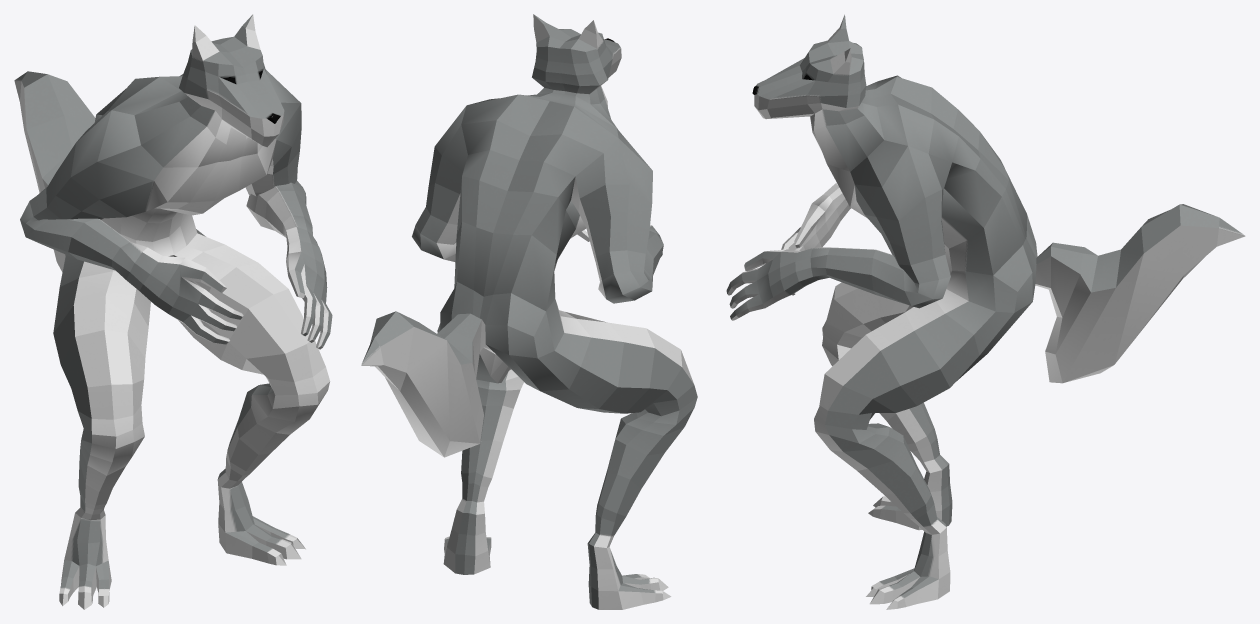
The model's file is WolfIdle_(116).obj.
The picture shows the model from 3 angles, left to right: view 1: azimuth 30°, elevation 25°; view 2: azimuth 150°, elevation 25°; view 3: azimuth 270°, elevation 25°; orthographic projection. The views are drawn at different scales.
Parts seen in each view (by area): view 1: Box001; view 2: Box001; view 3: Box001.
Part boxes in pixels (left/top/right/bottom): Box001: left=14, top=14, right=332, bottom=609; Box001: left=361, top=14, right=697, bottom=609; Box001: left=726, top=14, right=1245, bottom=609.
Bounding box in the file's own units: 62.95 × 131 × 115.
